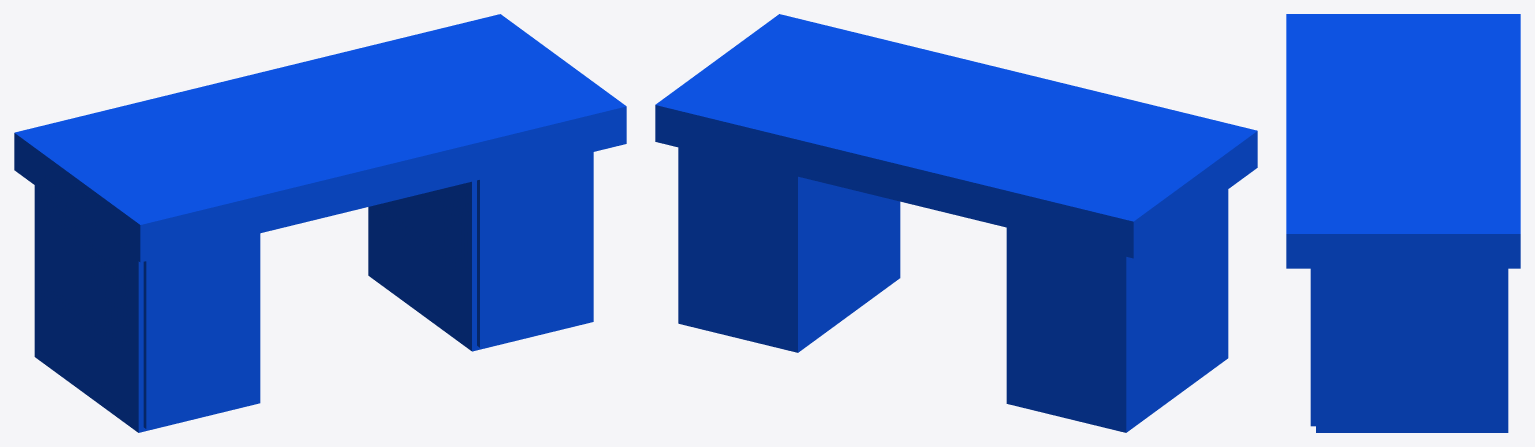
File: study_table_4_meshCollider.fbx
The picture shows the model from 3 angles, left to right: view 1: azimuth 30°, elevation 25°; view 2: azimuth 150°, elevation 25°; view 3: azimuth 270°, elevation 25°; orthographic projection. The views are drawn at different scales.
Visible parts, largest first — view 1: study_table_4_meshCollider, study_table_4_drawer_6_meshCollider, study_table_4_drawer_3_meshCollider, study_table_4_drawer_2_meshCollider, study_table_4_drawer_5_meshCollider, study_table_4_drawer_4_meshCollider, study_table_4_drawer_1_meshCollider; view 2: study_table_4_meshCollider; view 3: study_table_4_meshCollider, study_table_4_drawer_6_meshCollider, study_table_4_drawer_5_meshCollider, study_table_4_drawer_4_meshCollider.
Boxes of the visible parts, x1,y1,x2,y2 form: study_table_4_meshCollider: [14, 14, 626, 432]; study_table_4_drawer_6_meshCollider: [477, 247, 591, 347]; study_table_4_drawer_3_meshCollider: [143, 328, 257, 428]; study_table_4_drawer_2_meshCollider: [143, 278, 257, 355]; study_table_4_drawer_5_meshCollider: [477, 196, 591, 273]; study_table_4_drawer_4_meshCollider: [477, 152, 591, 223]; study_table_4_drawer_1_meshCollider: [143, 234, 257, 304]; study_table_4_meshCollider: [655, 14, 1257, 432]; study_table_4_meshCollider: [1286, 14, 1520, 432]; study_table_4_drawer_6_meshCollider: [1310, 358, 1315, 426]; study_table_4_drawer_5_meshCollider: [1310, 311, 1315, 357]; study_table_4_drawer_4_meshCollider: [1310, 268, 1315, 310].
Size of the model in its own units: 99.87 by 43.76 by 44.91.
